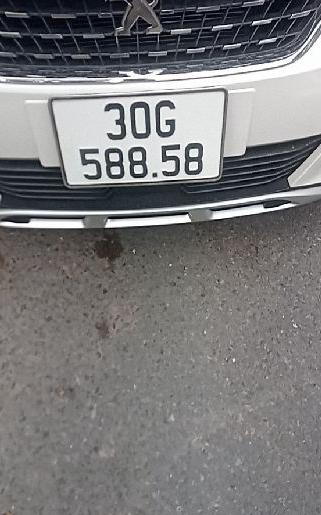Plate-iWeP: (61, 91, 224, 179)
